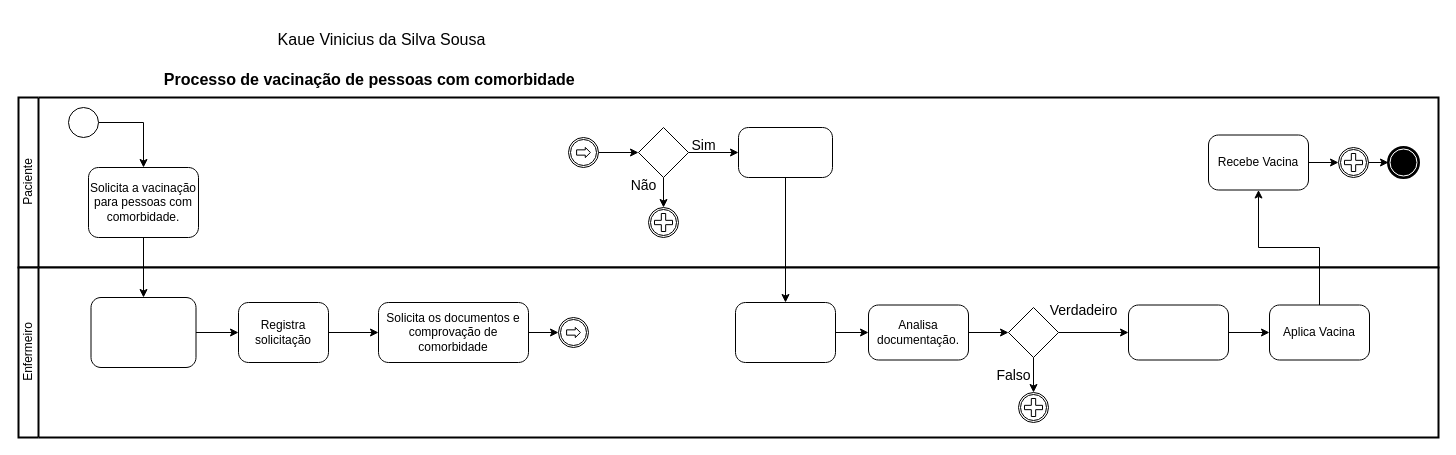
This 1456x455 diagram has some shape labels left out. Each missing label, with the centre of its shape:
Entrega documentação: the point at 785,152
Recebe documentação: the point at 785,332
Recebe informação de solicitação.: the point at 143,332
Retira a vacina do recipiente para a seringa.: the point at 1178,332
